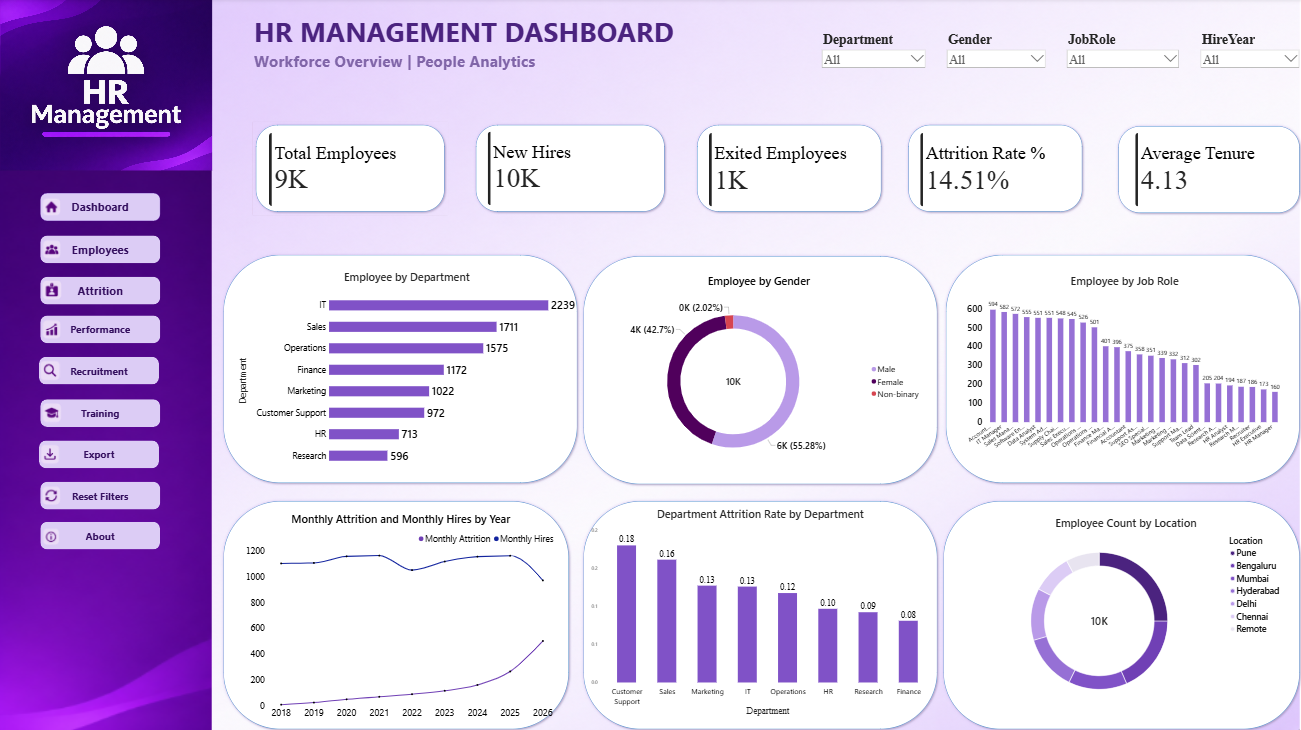

Layout of this report page (visuals, bound fields, positions):
{"tool":"powerbi","page":{"name":"Dashboard","canvas":[3840,2160],"ordinal":0},"visuals":[{"type":"shape","box":[10,0,3830,2160],"z":0},{"type":"image","box":[0,0,3830.4,2160.9],"z":1000},{"type":"shape","box":[0,0,626.1,2160.9],"z":2000},{"type":"shape","box":[747.8,365.2,573.9,273.9],"z":2000,"group":"g1"},{"type":"shape","title":"HR MANAGEMENT DASHBOARD","box":[750,45,1675,220],"z":3000},{"type":"shape","box":[1395.6,365.2,573.9,273.9],"z":3000,"group":"g1"},{"type":"image","box":[0,0,626.1,2160.9],"z":4000},{"type":"shape","box":[2047.8,365.2,560.9,273.9],"z":4000,"group":"g1"},{"type":"image","box":[2.7,0,624,508],"z":5000},{"type":"shape","box":[2669.5,365.2,530.4,273.9],"z":5000,"group":"g1"},{"type":"slicer","fields":{"Values":["HR_Employees.Department"]},"box":[2417.9,100,314.3,153.6],"z":6000},{"type":"shape","box":[3286.9,369.5,552.2,273.9],"z":6000,"group":"g1"},{"type":"slicer","fields":{"Values":["HR_Employees.Gender"]},"box":[2785.7,100,300,110.7],"z":7000},{"type":"shape","box":[650,746.4,1060.7,690],"z":7000,"group":"g2"},{"type":"slicer","fields":{"Values":["HR_Employees.JobRole"]},"box":[3139.3,100,339.3,153.6],"z":8000},{"type":"shape","box":[1710.7,750,1060.7,690],"z":8000,"group":"g2"},{"type":"slicer","fields":{"Values":["HR_Employees.HireYear"]},"box":[3532.1,100,300,110.7],"z":9000},{"type":"shape","box":[2778.6,746.4,1060,690],"z":9000,"group":"g2"},{"type":"actionButton","box":[119.6,575,353.6,82.1],"z":10000},{"type":"shape","box":[650,1471.4,1035.7,690],"z":10000,"group":"g2"},{"type":"actionButton","box":[121.5,699.4,353.3,82],"z":11000},{"type":"shape","box":[1710.7,1471.4,1060.7,690],"z":11000,"group":"g2"},{"type":"actionButton","box":[121.5,820.9,353.3,82],"z":12000},{"type":"shape","box":[2771.4,1471.4,1067.9,690],"z":12000,"group":"g2"},{"type":"actionButton","box":[121.5,935,353.3,82],"z":13000},{"type":"actionButton","box":[117.8,1056.4,353.3,82],"z":14000},{"type":"actionButton","box":[121.5,1181.6,353.3,82],"z":15000},{"type":"actionButton","box":[117.8,1303.1,353.3,82],"z":16000},{"type":"cardVisual","fields":{"Data":["HR_Employees.Total Employees"]},"box":[797,400,475,215],"z":17000,"group":"g1"},{"type":"actionButton","box":[121.5,1424.5,353.3,82],"z":17000},{"type":"cardVisual","fields":{"Data":["HR_Employees.New Hires"]},"box":[1440.2,394.7,472,216],"z":18000,"group":"g1"},{"type":"actionButton","box":[121.5,1542.3,353,82],"z":18000},{"type":"cardVisual","fields":{"Data":["HR_Employees.Exited Employees"]},"box":[2092,400,464,216],"z":19000,"group":"g1"},{"type":"group","id":"g1","title":"Group 1","box":[747.8,365.2,3091.3,278.3],"z":20000},{"type":"cardVisual","fields":{"Data":["HR_Employees.Attrition Rate %"]},"box":[2712,400,428,216],"z":20000,"group":"g1"},{"type":"cardVisual","fields":{"Data":["HR_Employees.Average Tenure"]},"box":[3348,400,448,216],"z":21000,"group":"g1"},{"type":"group","id":"g2","title":"Group 2","box":[650,746.4,3189.3,1415],"z":21000},{"type":"clusteredBarChart","title":"Employee  by Department","fields":{"Category":["HR_Employees.Department"],"Y":["HR_Employees.Employee Count"]},"box":[685.7,782.1,1025,621.4],"z":22000,"group":"g2"},{"type":"donutChart","title":"Employee  by Gender","fields":{"Category":["HR_Employees.Gender"],"Y":["HR_Employees.Employee Count"]},"box":[1739.3,792.8,992.9,610.7],"z":23000,"group":"g2"},{"type":"clusteredColumnChart","title":"Employee by Job Role","fields":{"Category":["HR_Employees.JobRole"],"Y":["HR_Employees.Employee Count"]},"box":[2832.1,792.8,960.7,553.6],"z":24000,"group":"g2"},{"type":"lineChart","fields":{"Category":["DateTable.Date.Variation.Date Hierarchy.Year","DateTable.Date.Variation.Date Hierarchy.Quarter","DateTable.Date.Variation.Date Hierarchy.Month","DateTable.Date.Variation.Date Hierarchy.Day"],"Y":["HR_Employees.Monthly Attrition","HR_Employees.Monthly Hires"]},"box":[708.9,1495.7,945.7,646.4],"z":25000,"group":"g2"},{"type":"clusteredColumnChart","title":"Department Attrition Rate by Department","fields":{"Category":["HR_Employees.Department"],"Y":["HR_Employees.Department Attrition Rate %"]},"box":[1710.7,1482.1,1060.7,646.4],"z":26000,"group":"g2"},{"type":"donutChart","fields":{"Category":["HR_Employees.Location"],"Y":["HR_Employees.Employee Count"]},"box":[2839.3,1507.1,953.6,592.9],"z":27000,"group":"g2"}]}

Visuals, with their boxes in screenshot pixels (x1, y1, x2, y2), scaled from the page's 3840x2160 canvas onto the 1301x730 screenshot:
shape: x1=3 y1=0 x2=1300 y2=729
image: x1=0 y1=0 x2=1298 y2=729
shape: x1=0 y1=0 x2=212 y2=729
shape: x1=253 y1=123 x2=448 y2=216
"HR MANAGEMENT DASHBOARD" shape: x1=254 y1=15 x2=822 y2=90
shape: x1=473 y1=123 x2=667 y2=216
image: x1=0 y1=0 x2=212 y2=729
shape: x1=694 y1=123 x2=884 y2=216
image: x1=1 y1=0 x2=212 y2=172
shape: x1=904 y1=123 x2=1084 y2=216
slicer - HR_Employees.Department: x1=819 y1=34 x2=926 y2=86
shape: x1=1114 y1=125 x2=1300 y2=217
slicer - HR_Employees.Gender: x1=944 y1=34 x2=1045 y2=71
shape: x1=220 y1=252 x2=580 y2=485
slicer - HR_Employees.JobRole: x1=1064 y1=34 x2=1179 y2=86
shape: x1=580 y1=253 x2=939 y2=487
slicer - HR_Employees.HireYear: x1=1197 y1=34 x2=1298 y2=71
shape: x1=941 y1=252 x2=1300 y2=485
actionButton: x1=41 y1=194 x2=160 y2=222
shape: x1=220 y1=497 x2=571 y2=729
actionButton: x1=41 y1=236 x2=161 y2=264
shape: x1=580 y1=497 x2=939 y2=729
actionButton: x1=41 y1=277 x2=161 y2=305
shape: x1=939 y1=497 x2=1300 y2=729
actionButton: x1=41 y1=316 x2=161 y2=344
actionButton: x1=40 y1=357 x2=160 y2=385
actionButton: x1=41 y1=399 x2=161 y2=427
actionButton: x1=40 y1=440 x2=160 y2=468
cardVisual - HR_Employees.Total Employees: x1=270 y1=135 x2=431 y2=208
actionButton: x1=41 y1=481 x2=161 y2=509
cardVisual - HR_Employees.New Hires: x1=488 y1=133 x2=648 y2=206
actionButton: x1=41 y1=521 x2=161 y2=549
cardVisual - HR_Employees.Exited Employees: x1=709 y1=135 x2=866 y2=208
"Group 1" group: x1=253 y1=123 x2=1300 y2=217
cardVisual - HR_Employees.Attrition Rate %: x1=919 y1=135 x2=1064 y2=208
cardVisual - HR_Employees.Average Tenure: x1=1134 y1=135 x2=1286 y2=208
"Group 2" group: x1=220 y1=252 x2=1300 y2=729
"Employee  by Department" clusteredBarChart: x1=232 y1=264 x2=580 y2=474
"Employee  by Gender" donutChart: x1=589 y1=268 x2=926 y2=474
"Employee by Job Role" clusteredColumnChart: x1=960 y1=268 x2=1285 y2=455
lineChart - DateTable.Date.Variation.Date Hierarchy.Year x DateTable.Date.Variation.Date Hierarchy.Quarter: x1=240 y1=505 x2=561 y2=724
"Department Attrition Rate by Department" clusteredColumnChart: x1=580 y1=501 x2=939 y2=719
donutChart - HR_Employees.Location x HR_Employees.Employee Count: x1=962 y1=509 x2=1285 y2=710
